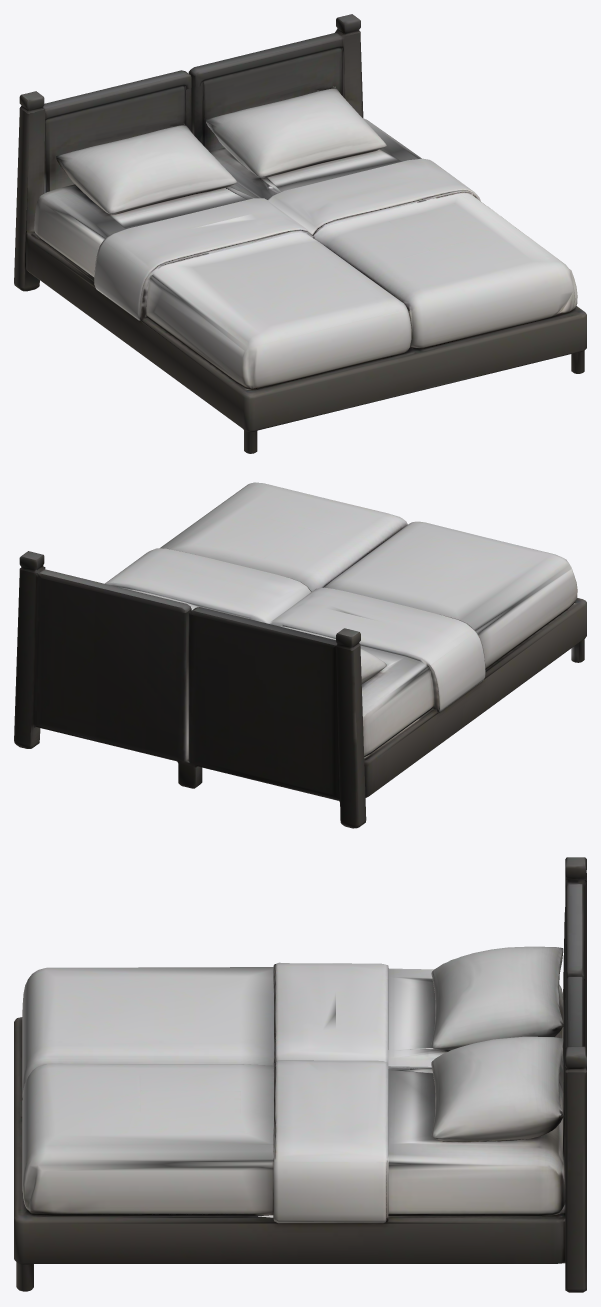
File: double_bed_realistic_style_3ea1c29f_v4.glb
The picture shows the model from 3 angles, top to bottom: view 1: azimuth 30°, elevation 25°; view 2: azimuth 150°, elevation 25°; view 3: azimuth 270°, elevation 25°; orthographic projection. The views are drawn at different scales.
Visible parts, largest first — view 1: texture_pbr_20250901; view 2: texture_pbr_20250901; view 3: texture_pbr_20250901.
Boxes of the visible parts, <box> form: texture_pbr_20250901: <box>14,14,586,453</box>; texture_pbr_20250901: <box>14,482,586,828</box>; texture_pbr_20250901: <box>14,857,586,1292</box>.
Bounding box in the file's own units: 1.64 × 0.8633 × 1.9.
1 material, 1 textured.
